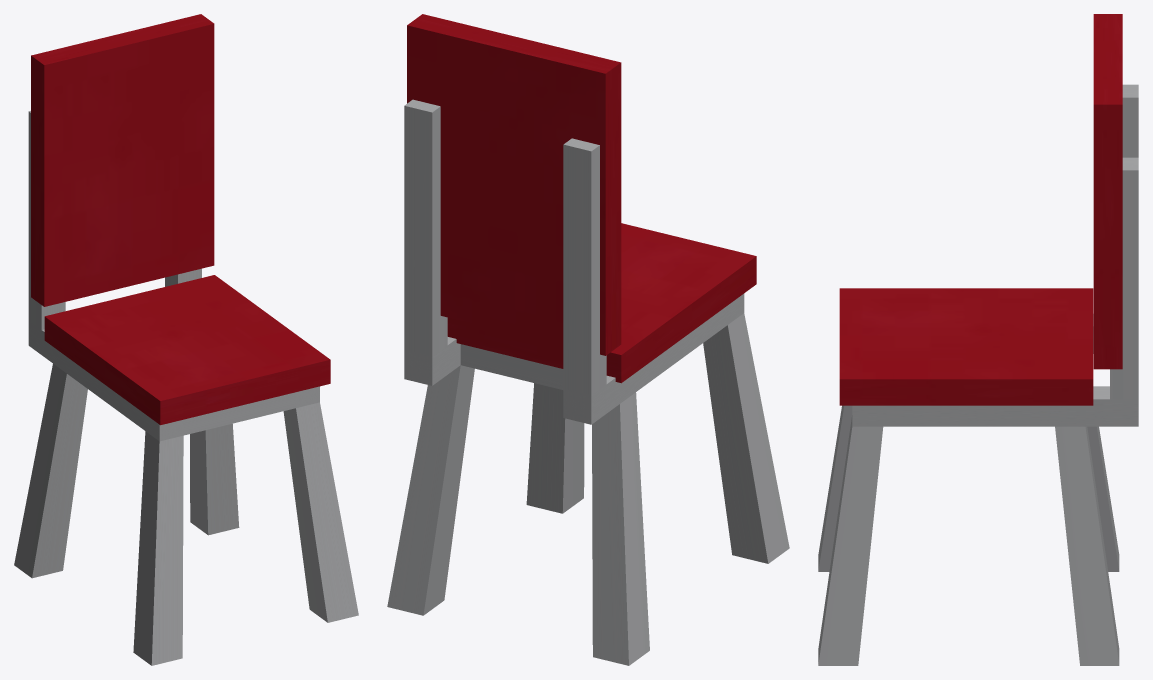
The model's file is BasicChairRed.fbx.
3 renders of one model, left to right at view 1: azimuth 30°, elevation 25°; view 2: azimuth 150°, elevation 25°; view 3: azimuth 270°, elevation 25°, orthographic. The views are drawn at different scales.
Parts seen in each view (by area): view 1: Cube.002, Cube.001; view 2: Cube.001, Cube.002; view 3: Cube.002, Cube.001.
Part boxes in pixels (bbox=[...]): Cube.002: bbox=[31, 14, 330, 425]; Cube.001: bbox=[14, 111, 358, 665]; Cube.001: bbox=[387, 99, 789, 665]; Cube.002: bbox=[407, 14, 756, 383]; Cube.002: bbox=[839, 14, 1122, 405]; Cube.001: bbox=[818, 84, 1138, 665].
Bounding box in the file's own units: 345 × 803 × 423.
